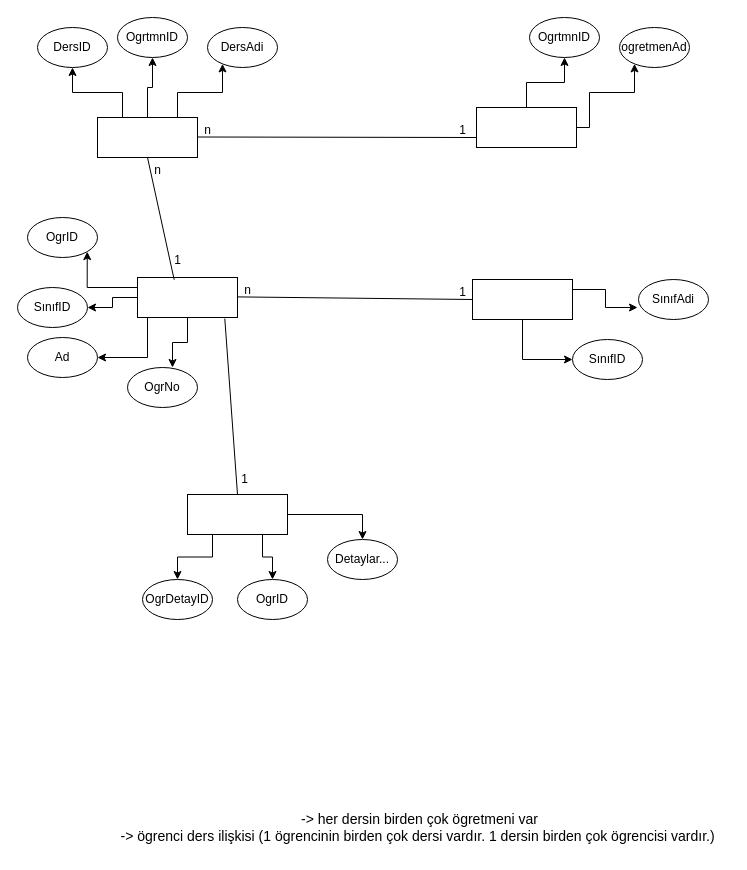
Image size: 747x870. Some labels were removed from this diagram. Each missing label, with the centre of its shape:
Dersler: point 147,137
OgrenciDetay: point 237,514
Ogrenciler: point 187,297
Ogretmenler: point 526,127
Sınıflar: point 522,299
